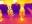Hotspot: (20, 3, 25, 12), (13, 0, 17, 4), (0, 0, 4, 4)
